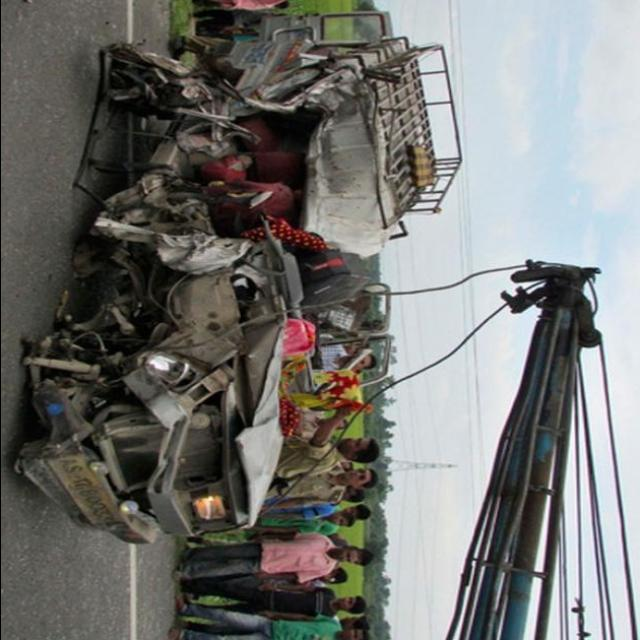accident: (0, 8, 497, 564)
